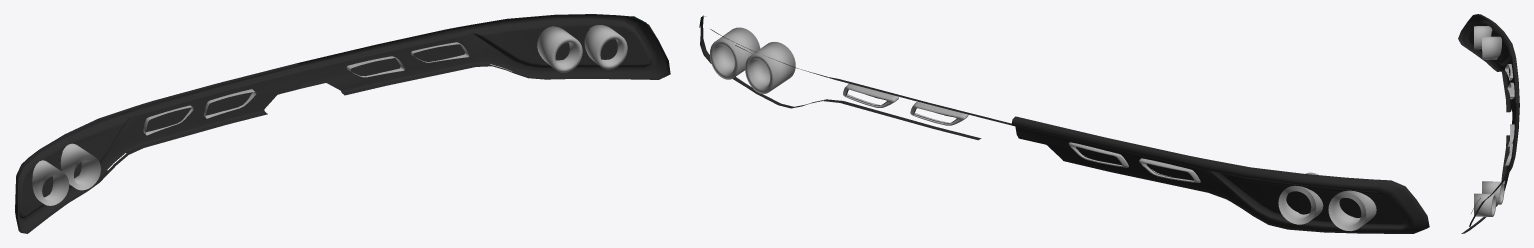
The picture shows the model from 3 angles, left to right: view 1: azimuth 30°, elevation 25°; view 2: azimuth 150°, elevation 25°; view 3: azimuth 270°, elevation 25°; orthographic projection. The views are drawn at different scales.
Parts seen in each view (by area): view 1: rear bumper 5; view 2: rear bumper 5; view 3: rear bumper 5.
Part boxes in pixels (left/top/right/bottom): rear bumper 5: left=15, top=14, right=670, bottom=233; rear bumper 5: left=699, top=15, right=1429, bottom=233; rear bumper 5: left=1458, top=14, right=1519, bottom=233.
Bounding box in the file's own units: 1.63 × 0.1428 × 0.2187.
Materials: 3 (1 with a texture image).
